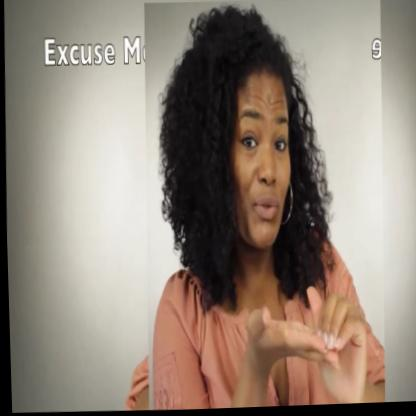ExcuseMe: (136, 0, 389, 412)
